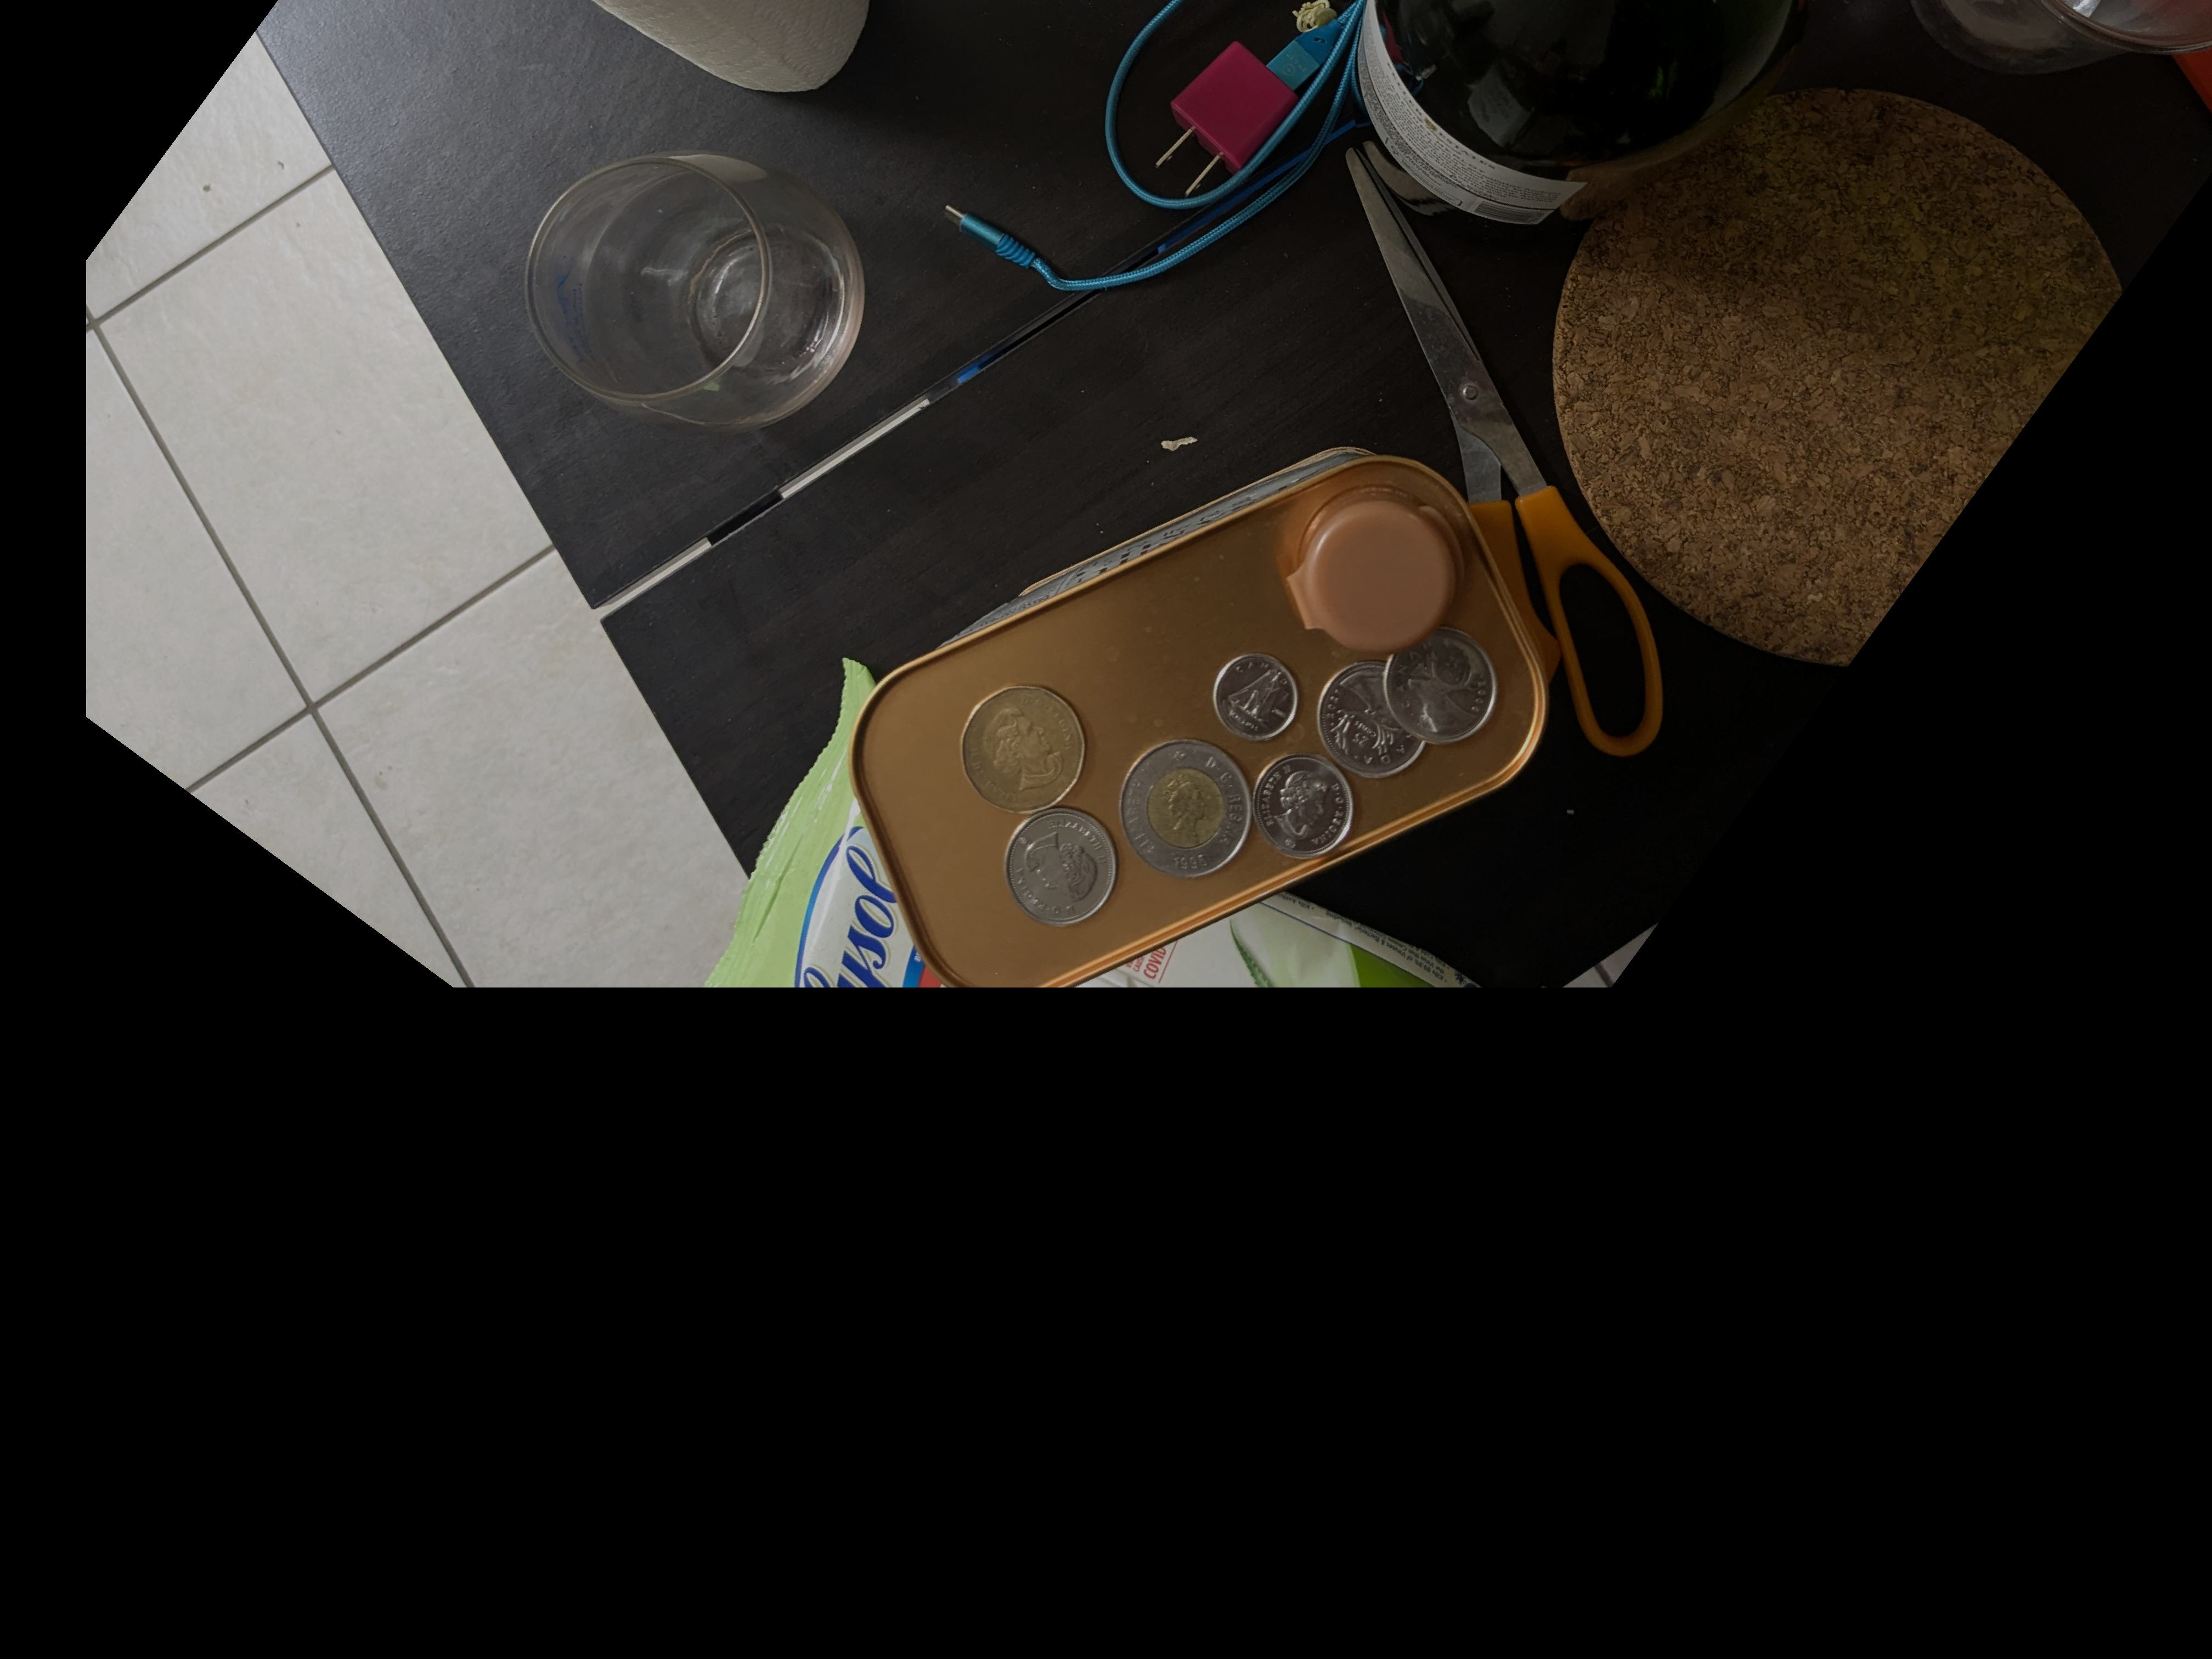dime: (1214, 647, 1305, 744)
loonie: (965, 676, 1094, 812)
nickel: (1240, 753, 1366, 856)
quarter: (1388, 631, 1505, 749), (1317, 662, 1420, 775), (1014, 816, 1111, 918)
toonie: (1111, 734, 1259, 882)
